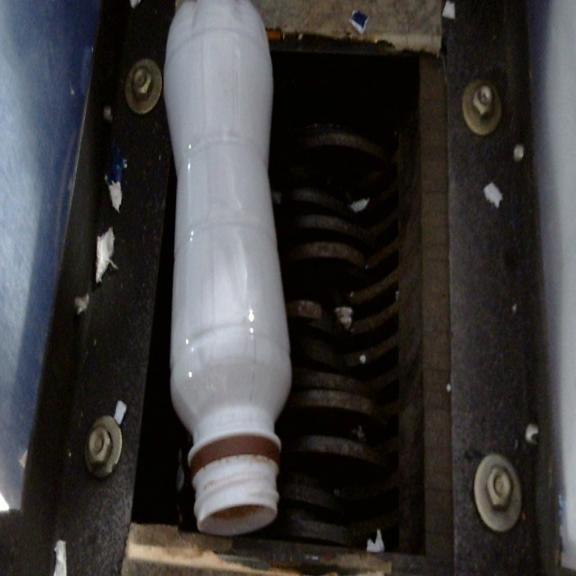Plastik: (153, 0, 302, 552)
